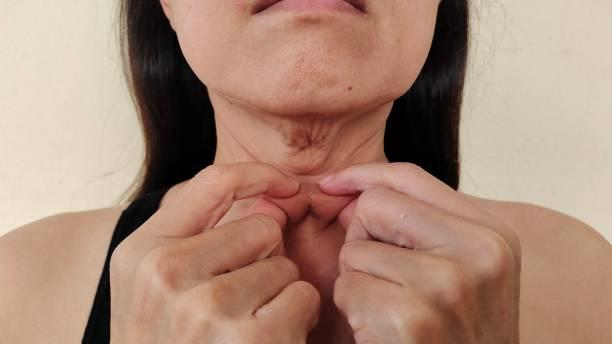Dry-Skin: (178, 21, 435, 132)
